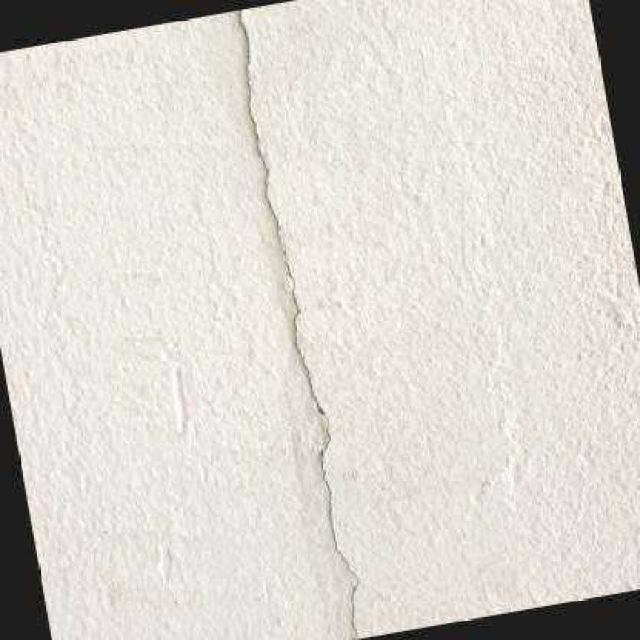D00: (237, 8, 360, 639)
